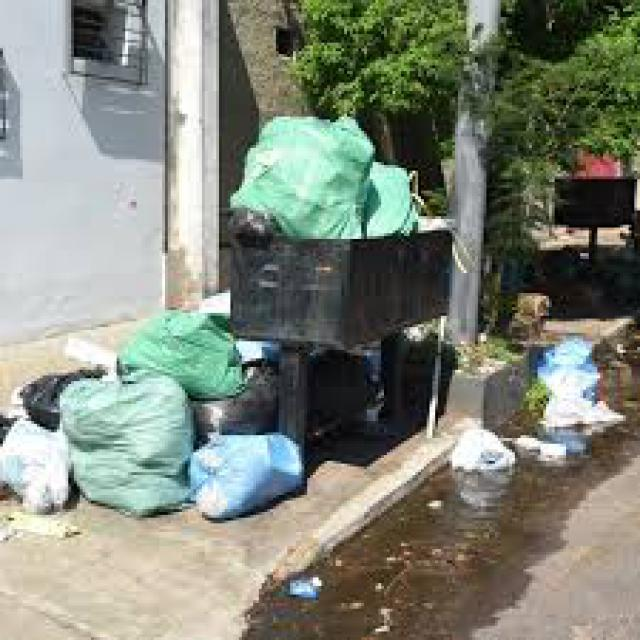Trashbag: (20, 359, 114, 433), (188, 366, 275, 442)
